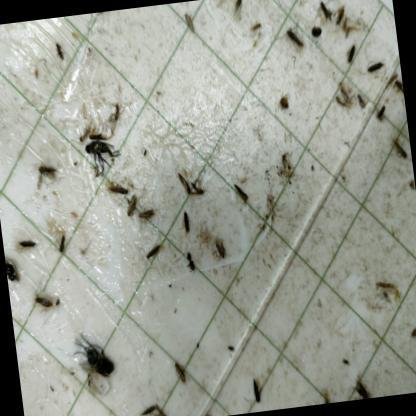prays_oleae: (389, 127, 413, 175), (207, 228, 232, 268), (170, 355, 196, 393), (4, 247, 22, 294), (244, 372, 268, 405), (30, 289, 57, 318), (190, 172, 214, 204), (14, 229, 41, 257), (348, 370, 372, 400), (366, 54, 388, 82), (178, 247, 200, 274), (283, 23, 304, 51), (107, 176, 128, 204), (314, 0, 334, 28), (174, 167, 192, 198), (231, 174, 247, 206), (372, 97, 390, 125), (146, 396, 171, 416), (136, 202, 158, 224), (54, 228, 70, 258), (37, 163, 62, 181), (330, 0, 348, 25), (388, 76, 404, 102), (353, 88, 368, 115), (178, 209, 194, 234), (344, 41, 360, 65), (230, 0, 249, 19), (143, 242, 163, 260)
